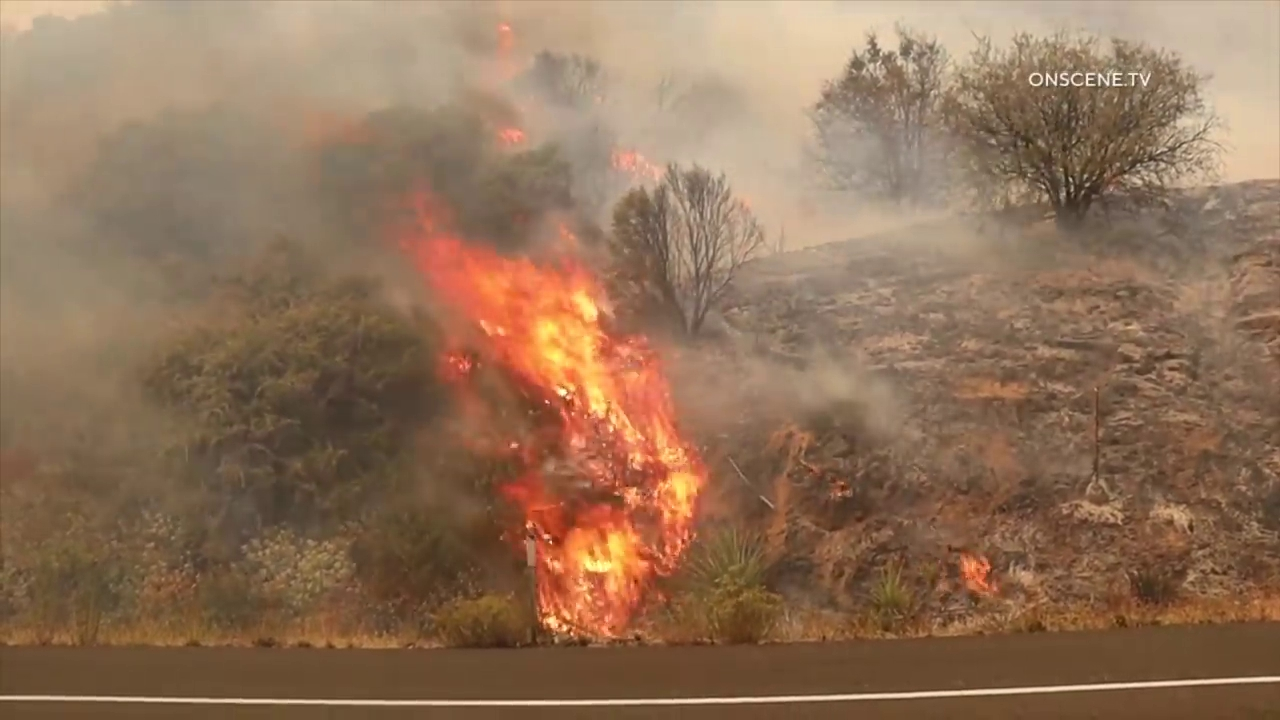forest_fire: (403, 194, 706, 632), (959, 552, 997, 594), (609, 151, 655, 179)
